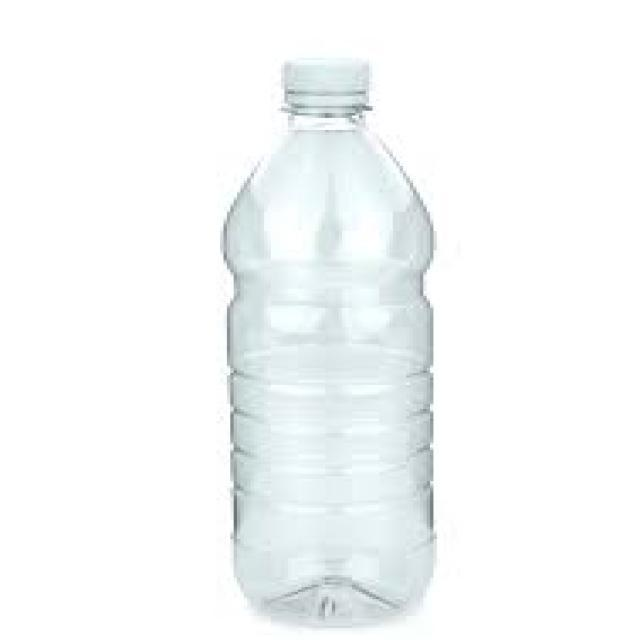Plastic: (216, 54, 440, 626)
